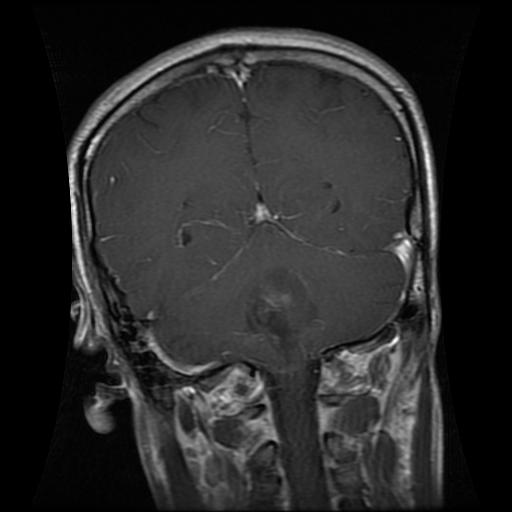Gliomia_tumour: (242, 263, 324, 356)
